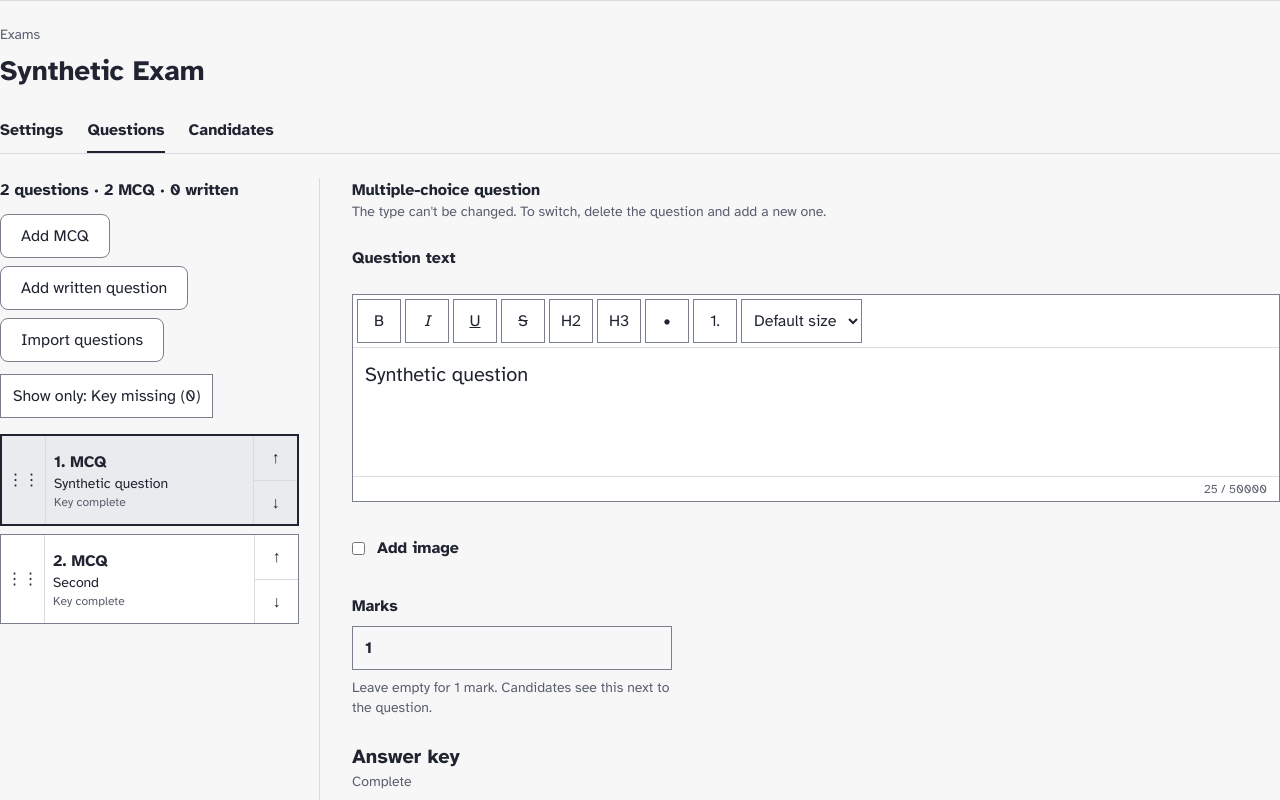
it: QuestionBuilder › removes an unsaved draft on discard so it cannot block reordering
Check: the text "Synthetic question" is shown, box x1=54 y1=475 x2=168 y2=492
Click the button "Add written question" at {"x": 94, "y": 288}, box x1=0 y1=266 x2=188 y2=310
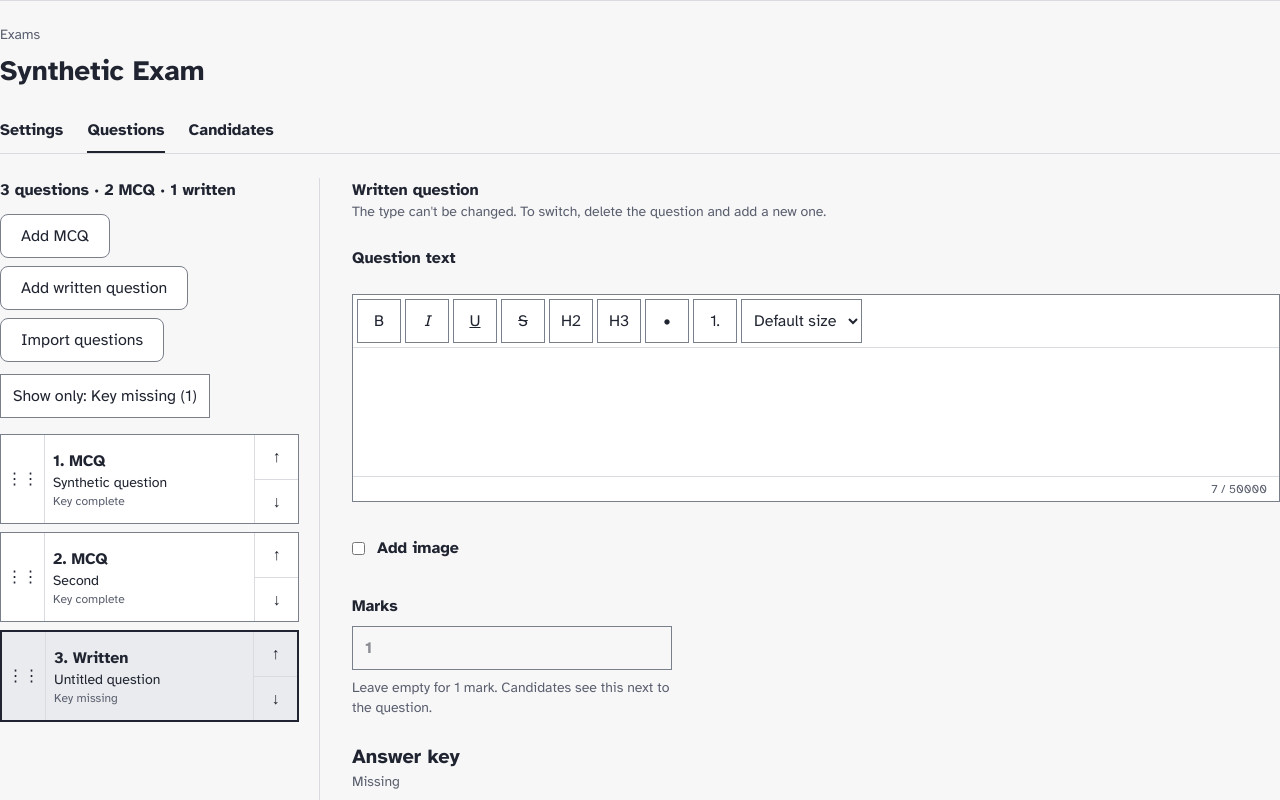
Click the text "Synthetic question" at {"x": 110, "y": 482}, box x1=53 y1=474 x2=167 y2=491
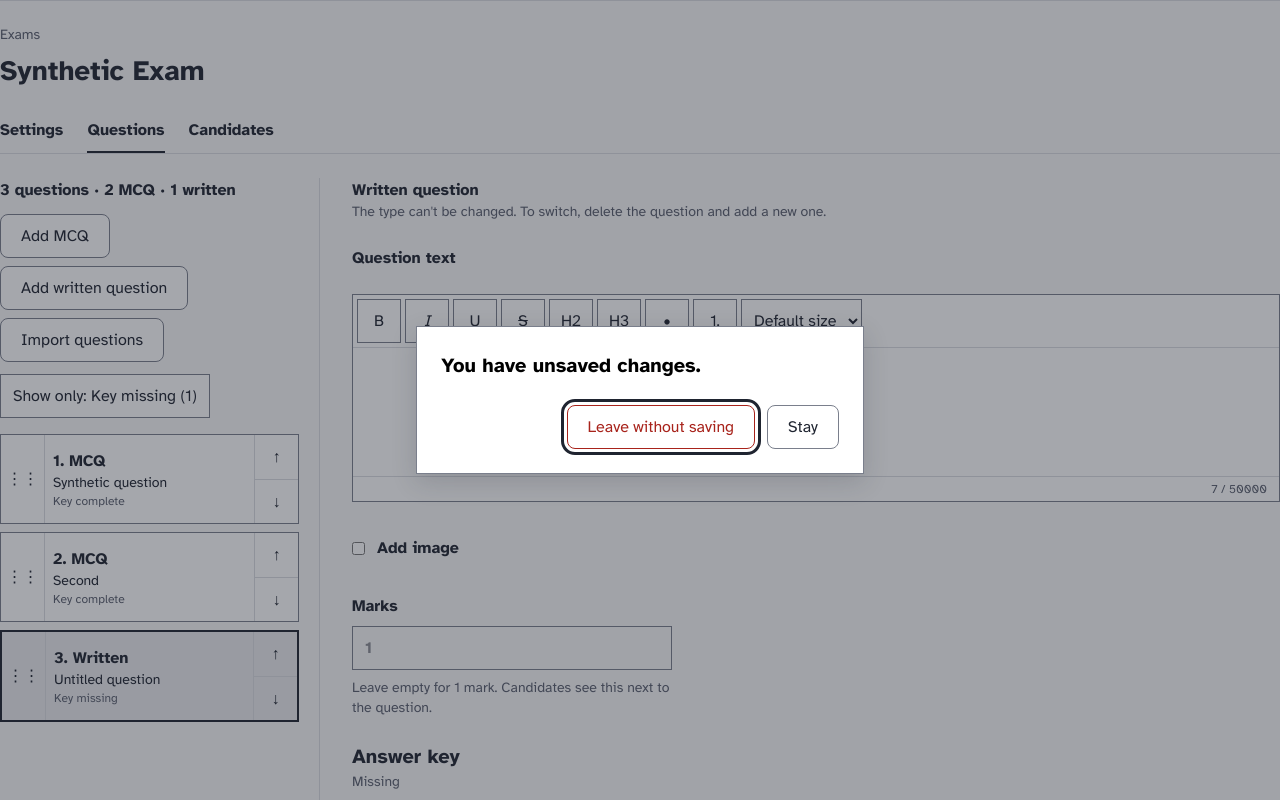
Click the button "Leave without saving" at {"x": 661, "y": 427}, box x1=566 y1=405 x2=755 y2=449
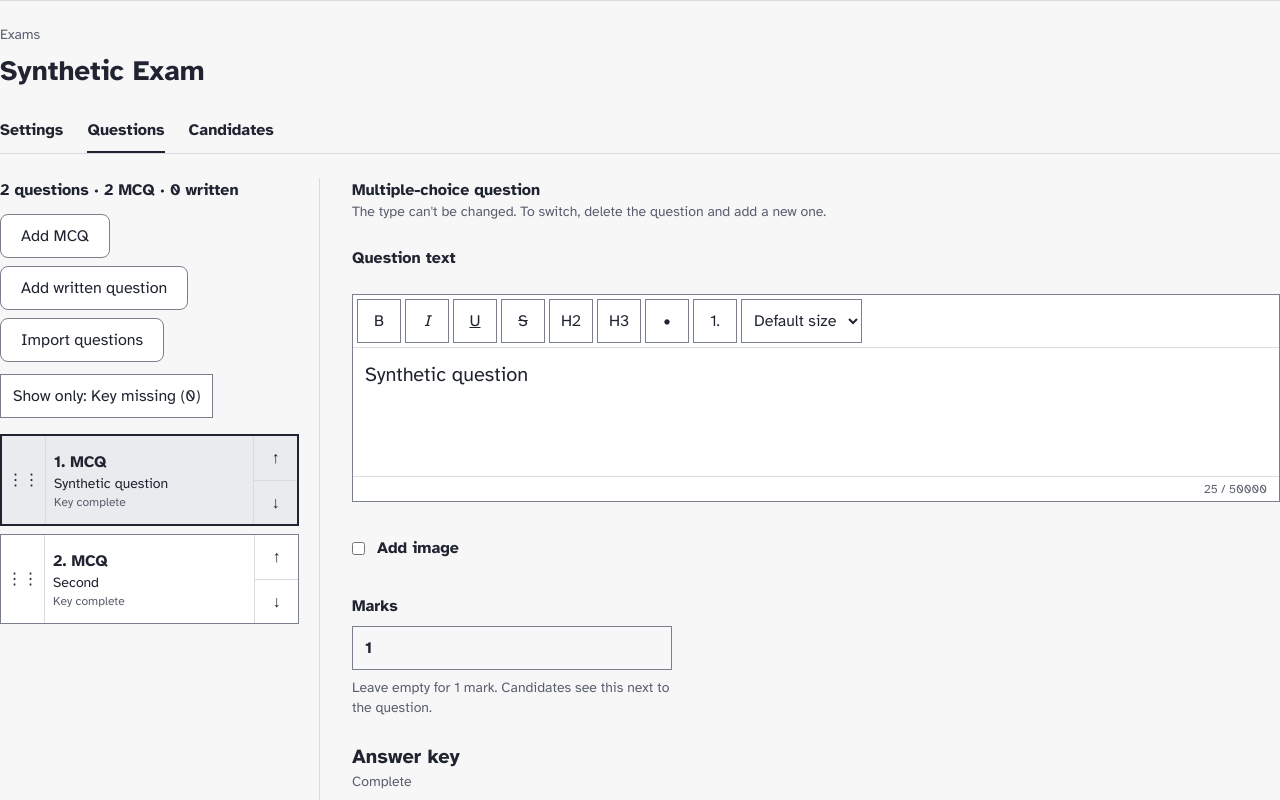
Check: the text "2 questions · 2 MCQ · 0 written" is shown, box x1=0 y1=180 x2=239 y2=200
Check: the button named "Move question 2 up" is enabled, box x1=254 y1=535 x2=298 y2=579
